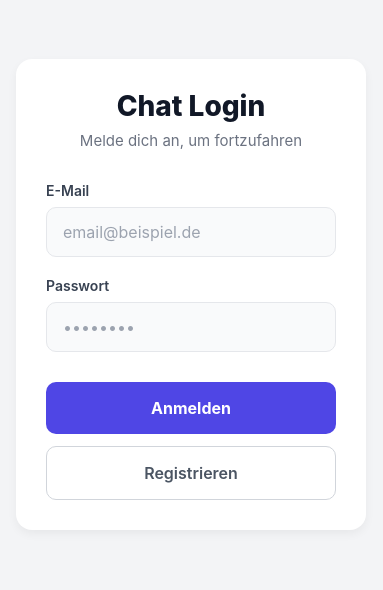
Test: SignInScreen › zeigt einen Fehler an, wenn E-Mail oder Passwort leer sind
This screenshot has width=383, height=590.
Step 1. Click the text "Anmelden" → point(191, 408), box [151, 398, 231, 418]
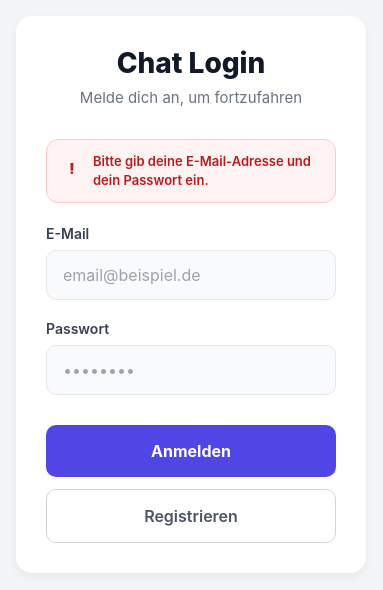
Expected: the text "Bitte gib deine E-Mail-Adresse und dein Passwort ein." is shown, [93, 152, 321, 190]
